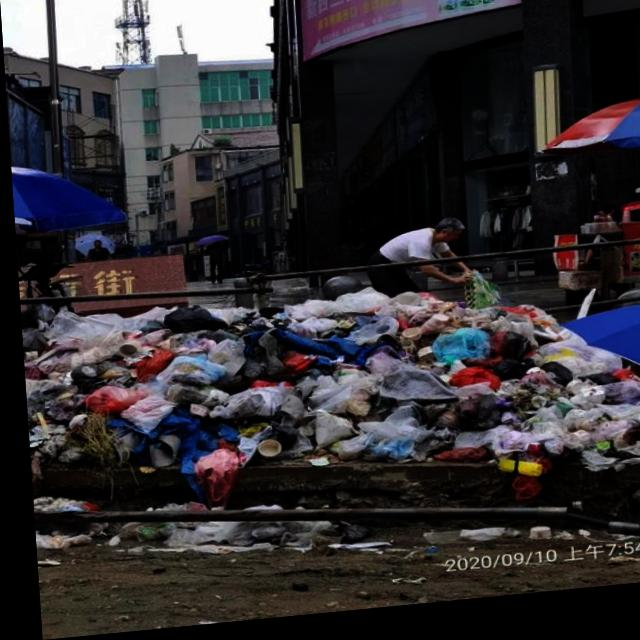garbage: (16, 257, 640, 596)
